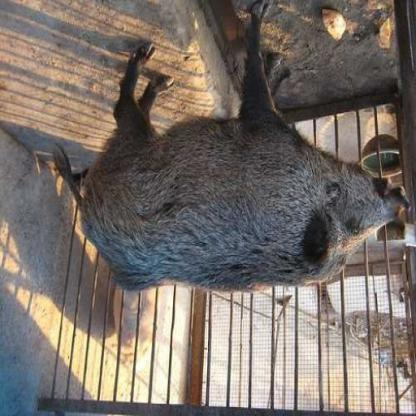boar: (69, 31, 415, 321)
